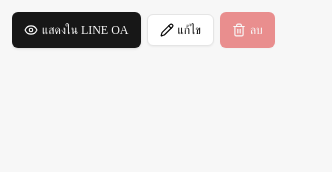
RowActions › disables unavailable actions with the reason and shows API errors
The width and height of the screenshot is (332, 172).
Expected: the button "ลบ" is disabled, [220,12,275,48]
Click the button "แสดงใน LINE OA" at (76, 30), box [12,12,140,48]
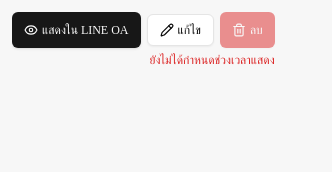
Result: the message reads "ยังไม่ได้กำหนดช่วงเวลาแสดง" at [150,53,275,67]
